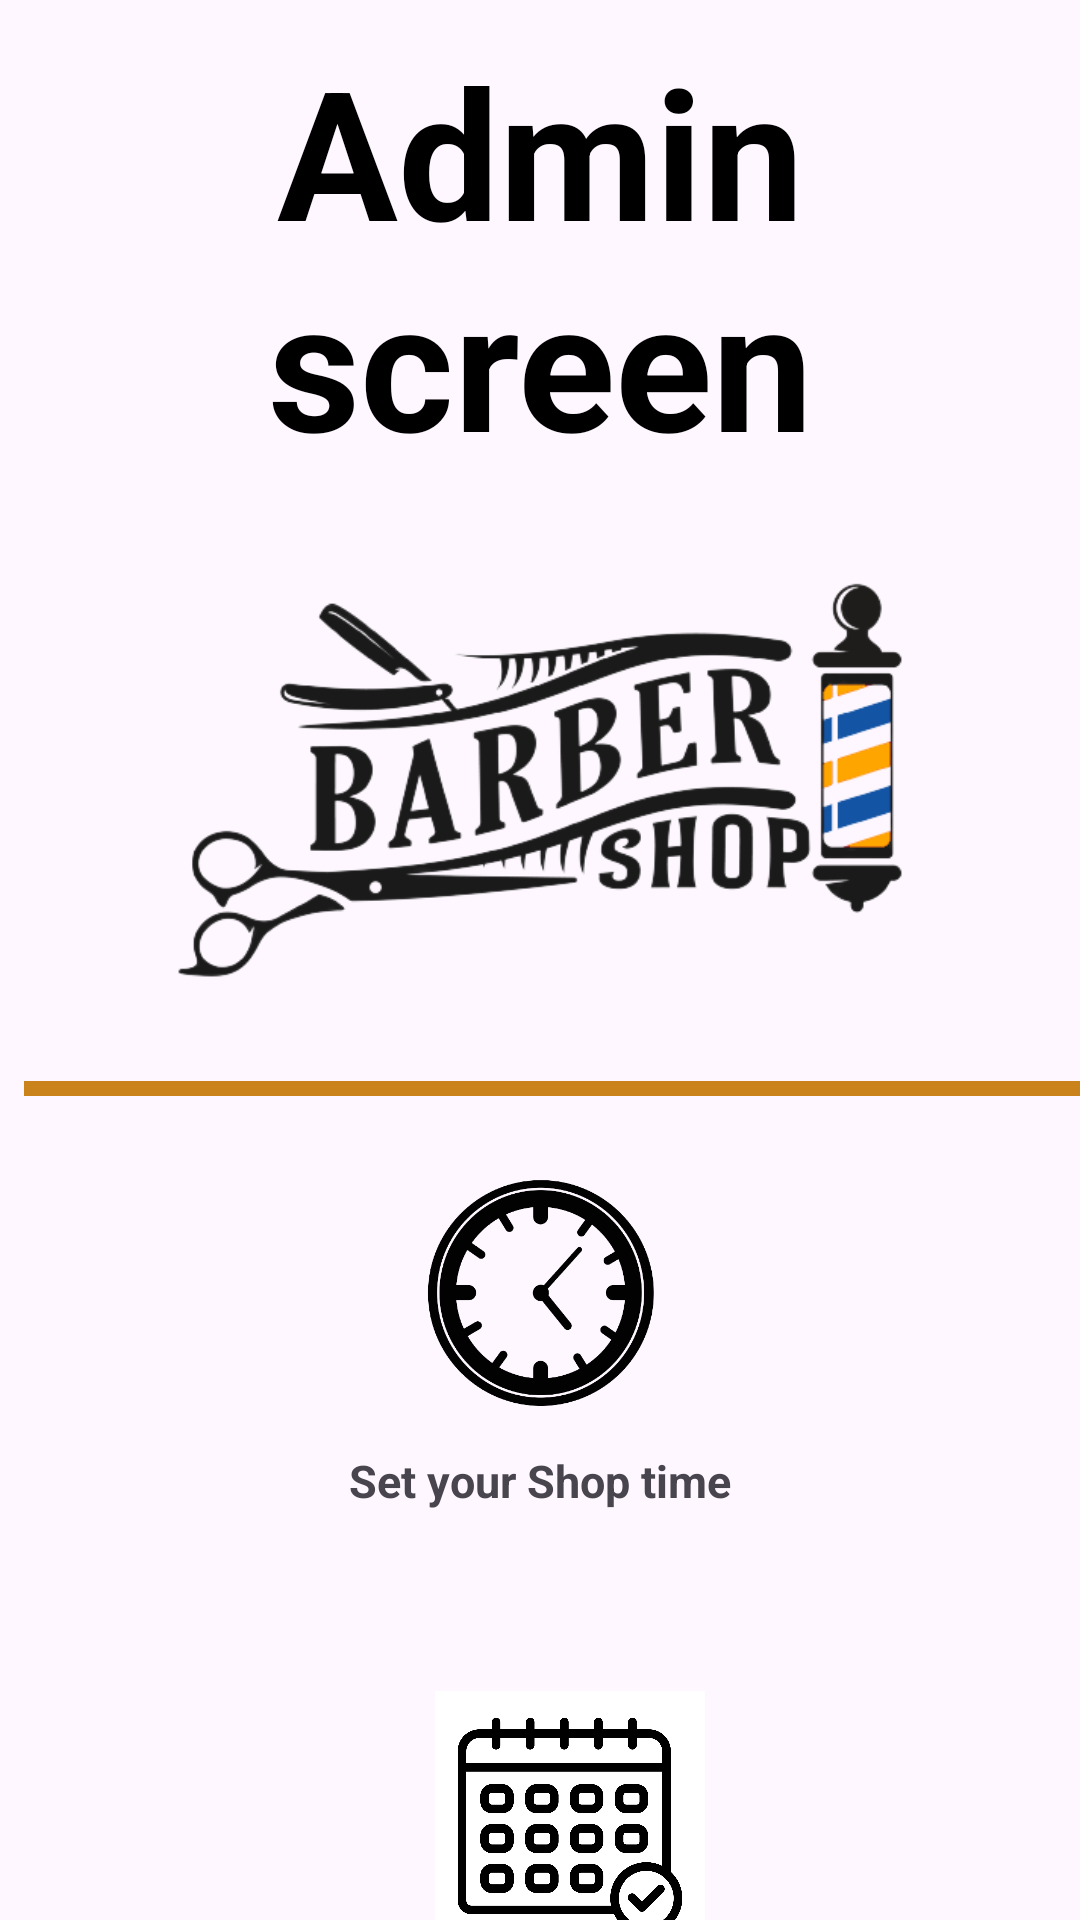

Where to tap for icons on this 1080x1920 app screen, as (x,y):
time stamp: (541,1293)
